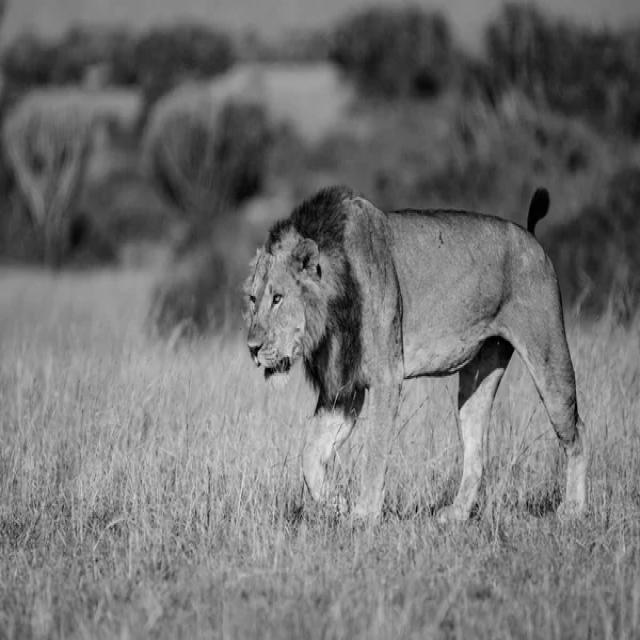Animal: (245, 197, 592, 538)
